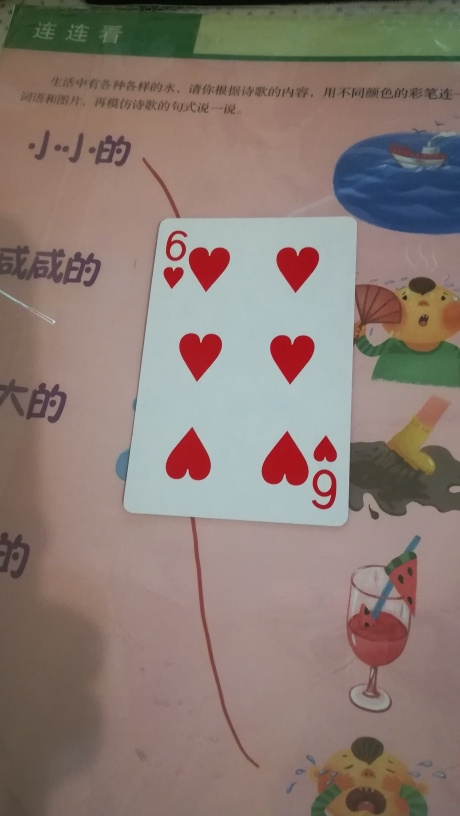hx 6: (122, 208, 359, 532)
